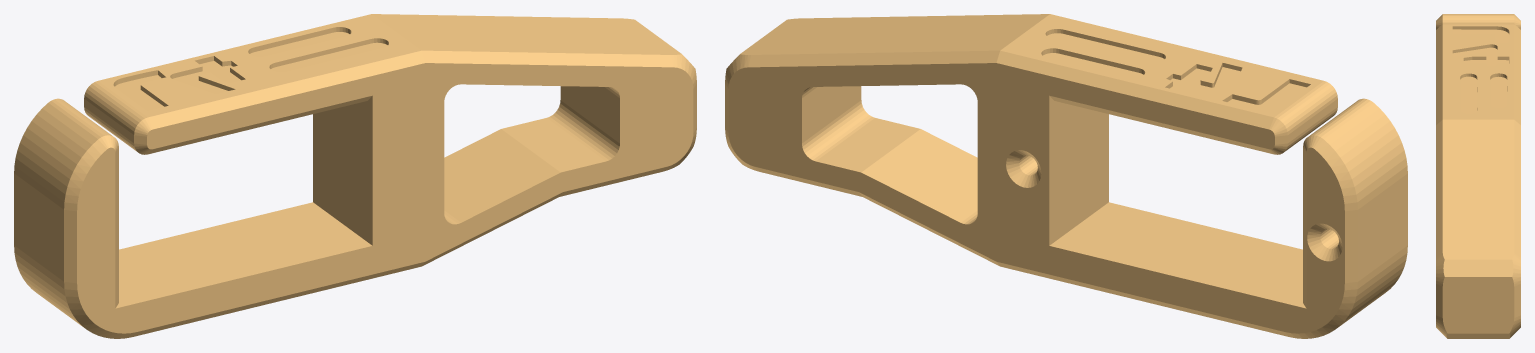
File: foot_l4.glb
The picture shows the model from 3 angles, left to right: view 1: azimuth 30°, elevation 25°; view 2: azimuth 150°, elevation 25°; view 3: azimuth 270°, elevation 25°; orthographic projection. The views are drawn at different scales.
Parts seen in each view (by area): view 1: geometry_0; view 2: geometry_0; view 3: geometry_0.
Boxes of the visible parts, left/top/right/bottom form: geometry_0: left=14, top=14, right=696, bottom=338; geometry_0: left=725, top=14, right=1407, bottom=338; geometry_0: left=1436, top=14, right=1520, bottom=338.
Bounding box in the file's own units: 0.0584 × 0.019 × 0.00953.
